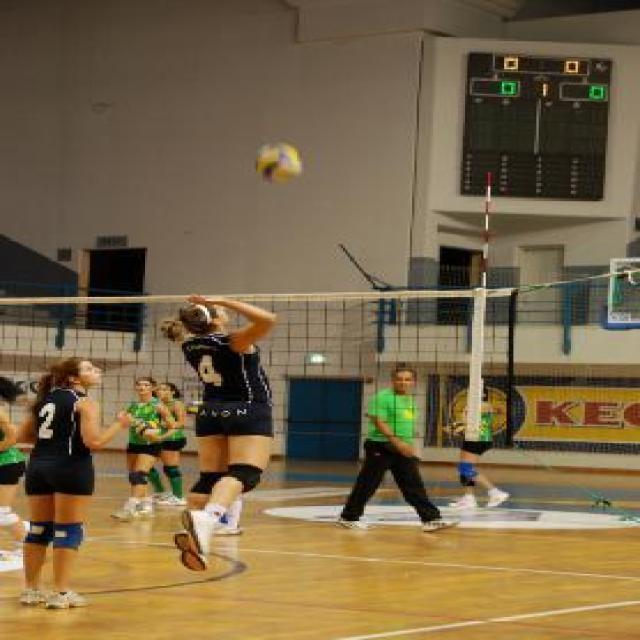volleyball: (256, 142, 302, 186)
